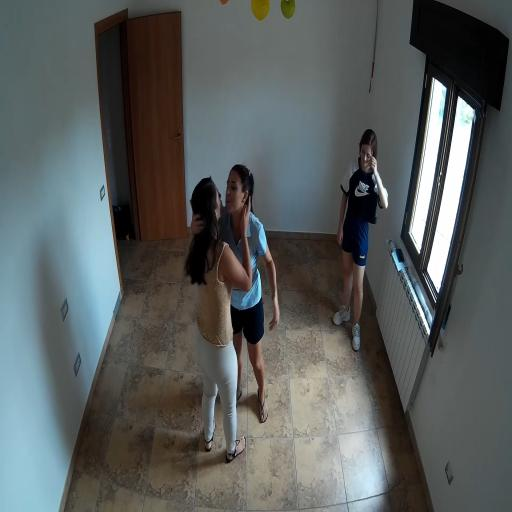nao-violencia: (179, 157, 286, 471)
